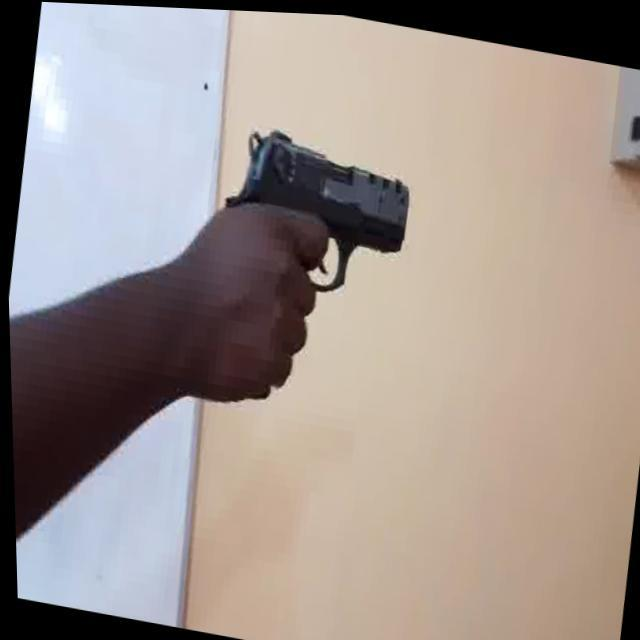weapon: (212, 117, 418, 305)
